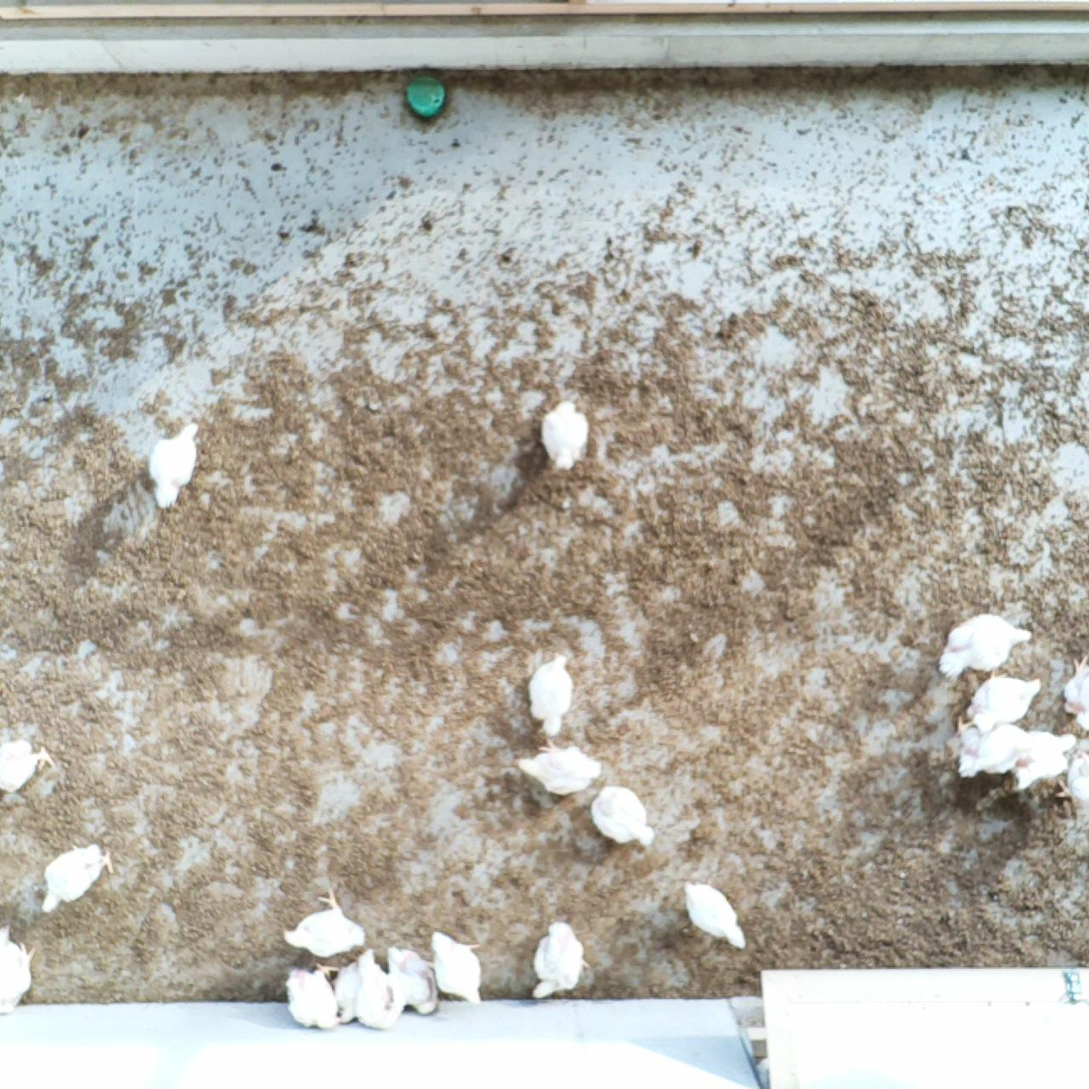chicken: (937, 610, 1035, 680), (282, 888, 368, 960), (142, 419, 204, 515), (959, 668, 1045, 737), (39, 841, 114, 916), (525, 918, 589, 1002), (514, 735, 602, 796), (426, 926, 489, 1010), (349, 943, 406, 1034), (589, 781, 657, 854), (683, 878, 750, 952), (282, 948, 339, 1033), (953, 728, 1036, 786), (528, 646, 578, 741), (539, 393, 592, 480), (1011, 729, 1079, 796), (383, 944, 443, 1019), (0, 919, 41, 1016), (0, 737, 57, 796), (1057, 733, 1089, 816), (333, 962, 368, 1032), (1059, 654, 1089, 733)
